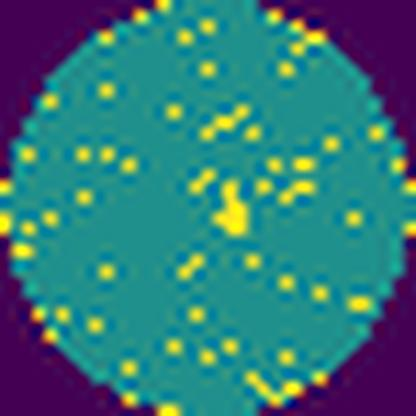Center: (207, 180, 255, 237)
